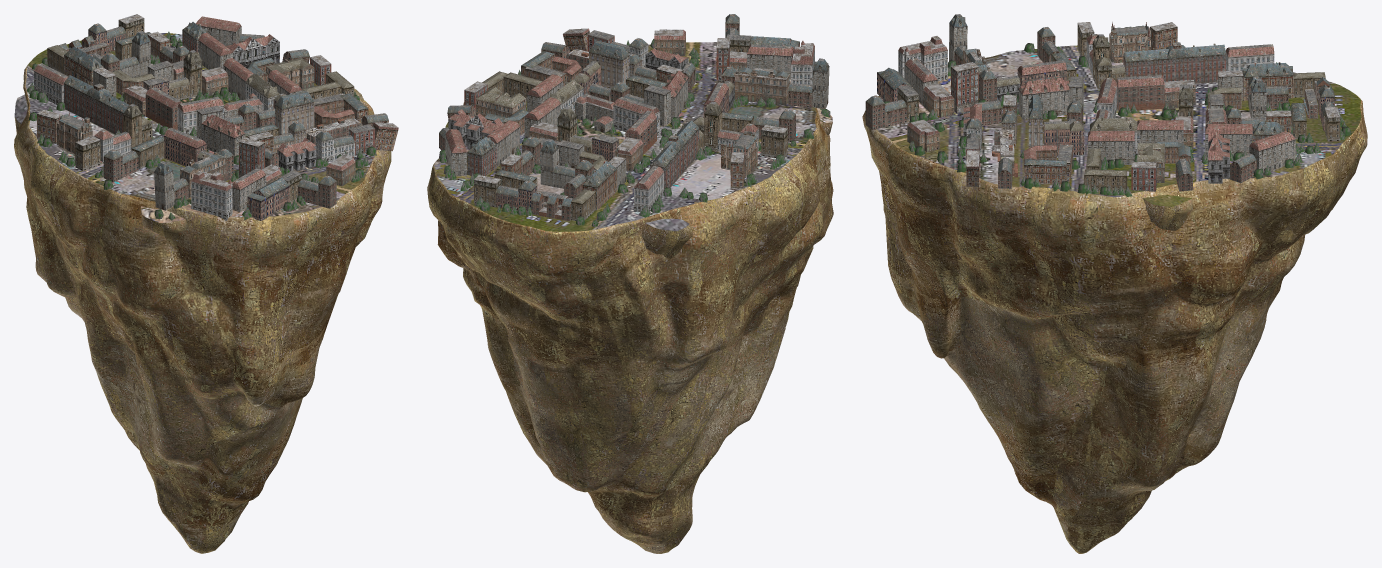
File: sm0680_floatingisland01.fbx
The picture shows the model from 3 angles, left to right: view 1: azimuth 30°, elevation 25°; view 2: azimuth 150°, elevation 25°; view 3: azimuth 270°, elevation 25°; orthographic projection. The views are drawn at different scales.
Visible parts, largest first — view 1: LOD_1_Group_0_Sub_2__sm0703_land_A_Mat, LOD_1_Group_0_Sub_4__sm0680_floatingisland_B_Mat, LOD_1_Group_0_Sub_3__sm0680_floatingisland_A_Mat, LOD_1_Group_0_Sub_1__sm0680_floatingisland_C_Mat; view 2: LOD_1_Group_0_Sub_2__sm0703_land_A_Mat, LOD_1_Group_0_Sub_4__sm0680_floatingisland_B_Mat, LOD_1_Group_0_Sub_3__sm0680_floatingisland_A_Mat, LOD_1_Group_0_Sub_1__sm0680_floatingisland_C_Mat; view 3: LOD_1_Group_0_Sub_2__sm0703_land_A_Mat, LOD_1_Group_0_Sub_4__sm0680_floatingisland_B_Mat, LOD_1_Group_0_Sub_3__sm0680_floatingisland_A_Mat, LOD_1_Group_0_Sub_1__sm0680_floatingisland_C_Mat.
Part boxes in pixels (left/top/right/bottom): LOD_1_Group_0_Sub_2__sm0703_land_A_Mat: left=14, top=55, right=391, bottom=553; LOD_1_Group_0_Sub_4__sm0680_floatingisland_B_Mat: left=34, top=16, right=398, bottom=212; LOD_1_Group_0_Sub_3__sm0680_floatingisland_A_Mat: left=27, top=14, right=398, bottom=220; LOD_1_Group_0_Sub_1__sm0680_floatingisland_C_Mat: left=14, top=33, right=376, bottom=222; LOD_1_Group_0_Sub_2__sm0703_land_A_Mat: left=427, top=102, right=833, bottom=553; LOD_1_Group_0_Sub_4__sm0680_floatingisland_B_Mat: left=439, top=14, right=829, bottom=221; LOD_1_Group_0_Sub_3__sm0680_floatingisland_A_Mat: left=439, top=14, right=830, bottom=226; LOD_1_Group_0_Sub_1__sm0680_floatingisland_C_Mat: left=434, top=42, right=832, bottom=231; LOD_1_Group_0_Sub_2__sm0703_land_A_Mat: left=862, top=95, right=1367, bottom=553; LOD_1_Group_0_Sub_4__sm0680_floatingisland_B_Mat: left=866, top=14, right=1340, bottom=191; LOD_1_Group_0_Sub_3__sm0680_floatingisland_A_Mat: left=865, top=14, right=1351, bottom=196; LOD_1_Group_0_Sub_1__sm0680_floatingisland_C_Mat: left=877, top=45, right=1361, bottom=206.
Bounding box in the file's own units: 29901 × 41135 × 38907.
